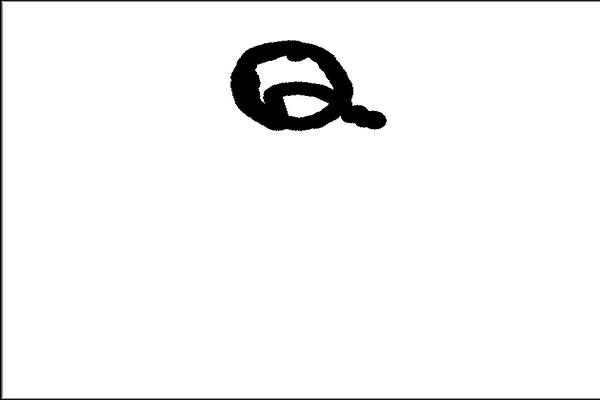Q: (217, 32, 387, 143)
